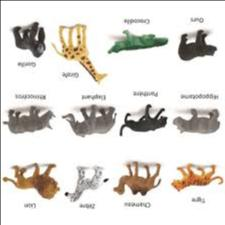Non_Gorille: (47, 14, 218, 213)
gorille_Autres: (7, 21, 46, 61)
